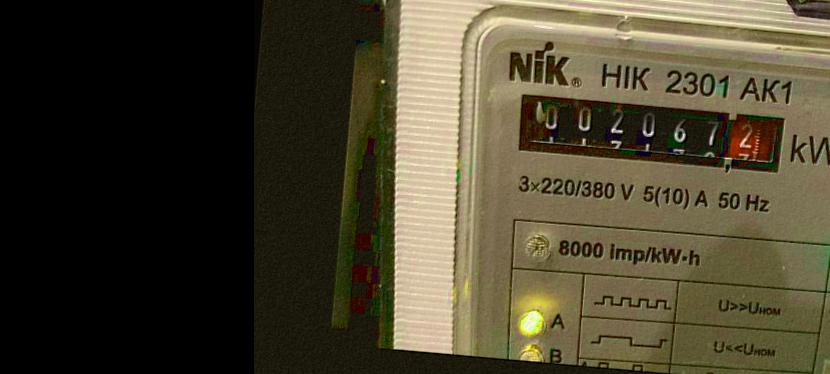0: (542, 102, 562, 132), (639, 108, 659, 137), (576, 103, 595, 133)
2: (737, 120, 757, 150), (609, 105, 628, 136)
6: (671, 114, 692, 144)
7: (704, 117, 722, 148)
screen: (503, 79, 801, 187)
